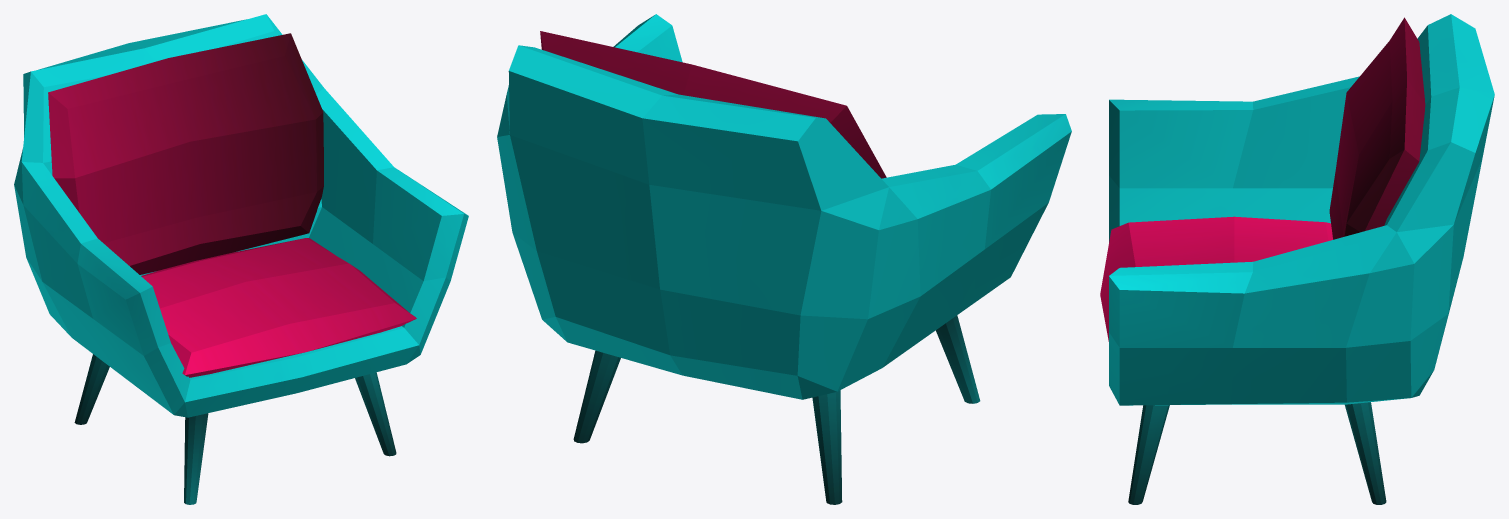
Rendered from Sillon.fbx.
3 renders of one model, left to right at view 1: azimuth 30°, elevation 25°; view 2: azimuth 150°, elevation 25°; view 3: azimuth 270°, elevation 25°, orthographic. The views are drawn at different scales.
Visible parts, largest first — view 1: Sillon; view 2: Sillon; view 3: Sillon.
Part boxes in pixels (<box>): Sillon: <box>14,14,468,504</box>; Sillon: <box>497,14,1071,504</box>; Sillon: <box>1100,14,1494,504</box>.
Size of the model in its own units: 3.2 by 2.95 by 2.86.
1 material, 1 textured.
